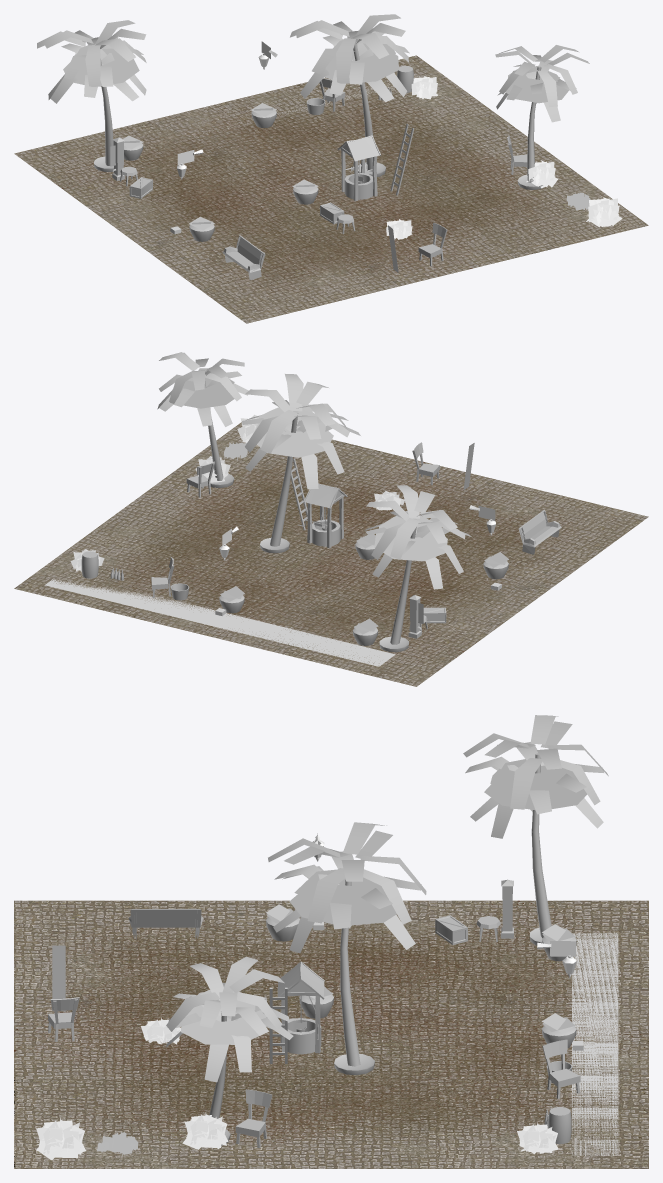
File: propsonly_3b.gltf
3 renders of one model, top to bottom at view 1: azimuth 30°, elevation 25°; view 2: azimuth 150°, elevation 25°; view 3: azimuth 270°, elevation 25°, orthographic. The views are drawn at different scales.
Visible parts, largest first — view 1: ground.003, prop_tree2, prop_tree3, prop_tree1.001, prop_well, prop_bench1.004, prop_building_bush_05, prop_building_bush_05.003, prop_chair1.001, prop_building_bush_05.002, prop_waterpump, prop_flowerpot.003 (+3 smaller); view 2: ground.003, prop_tree2, prop_tree3, FeedbackBlocker.001, prop_tree1.001, prop_well, prop_bench1.004, prop_waterpump, prop_flowerpot.002, prop_flowerpot.001, prop_flowerpot, prop_chair1.003 (+1 smaller); view 3: ground.003, prop_tree2, prop_tree3, FeedbackBlocker.001, prop_tree1.001, prop_well, prop_building_bush_05, prop_bench1.004, prop_building_bush_05.003, prop_chair1.002, prop_chair1.003, prop_building_bush_05.002 (+10 smaller).
Part boxes in pixels (x1,y1,x2,y2): ground.003: (14, 55, 648, 323); prop_tree2: (290, 14, 409, 171); prop_tree3: (37, 20, 146, 165); prop_tree1.001: (495, 45, 589, 182); prop_well: (337, 135, 381, 201); prop_bench1.004: (222, 235, 265, 280); prop_building_bush_05: (586, 197, 622, 227); prop_building_bush_05.003: (526, 160, 557, 188); prop_chair1.001: (418, 222, 447, 266); prop_building_bush_05.002: (411, 76, 438, 99); prop_waterpump: (110, 137, 125, 180); prop_flowerpot.003: (292, 179, 318, 204); ground.003: (14, 422, 648, 686); prop_tree2: (242, 374, 360, 546); prop_tree3: (365, 485, 472, 644); FeedbackBlocker.001: (45, 579, 395, 666); prop_tree1.001: (157, 352, 248, 480); prop_well: (298, 483, 347, 548); prop_bench1.004: (518, 509, 561, 554); prop_waterpump: (408, 595, 423, 638); prop_flowerpot.002: (483, 552, 508, 579); prop_flowerpot.001: (352, 618, 378, 645); prop_flowerpot: (219, 586, 244, 613); prop_chair1.003: (186, 461, 214, 497); ground.003: (14, 900, 648, 1168); prop_tree2: (268, 822, 426, 1066); prop_tree3: (463, 715, 608, 938); FeedbackBlocker.001: (572, 933, 618, 1155); prop_tree1.001: (165, 956, 293, 1118); prop_well: (277, 961, 324, 1054); prop_building_bush_05: (35, 1117, 86, 1160); prop_bench1.004: (128, 909, 203, 939); prop_building_bush_05.003: (182, 1112, 228, 1149); prop_chair1.002: (542, 1039, 580, 1098); prop_chair1.003: (235, 1089, 272, 1148); prop_building_bush_05.002: (517, 1122, 558, 1154).
Size of what is drawn, in the model's own units: 3.43 by 1.3 by 3.3.
